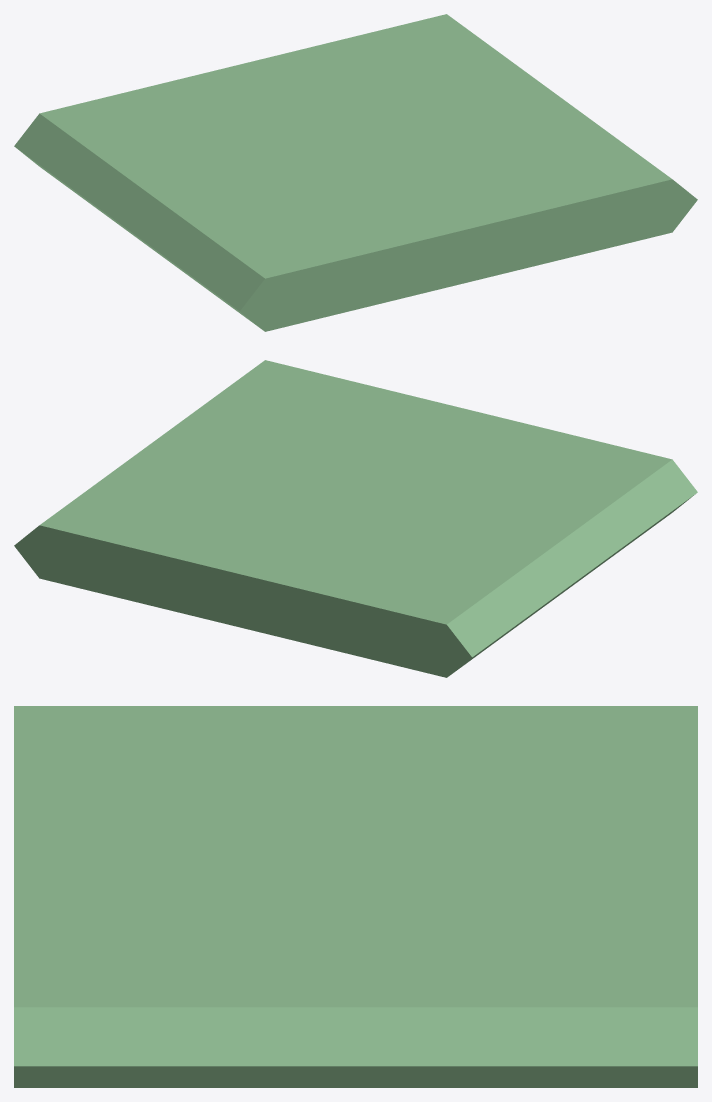
The model's file is deliverySquare.fbx.
3 views of the same model, one above another, from view 1: azimuth 30°, elevation 25°; view 2: azimuth 150°, elevation 25°; view 3: azimuth 270°, elevation 25° (orthographic). The views are drawn at different scales.
Visible parts, largest first — view 1: mergedBlocks; view 2: mergedBlocks; view 3: mergedBlocks.
Boxes of the visible parts, x1,y1,x2,y2 form: mergedBlocks: [14, 14, 697, 331]; mergedBlocks: [14, 360, 697, 677]; mergedBlocks: [14, 706, 697, 1087].
Size of the model in its own units: 11.25 by 1.25 by 9.6.
